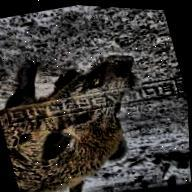boar: (0, 27, 171, 192)
